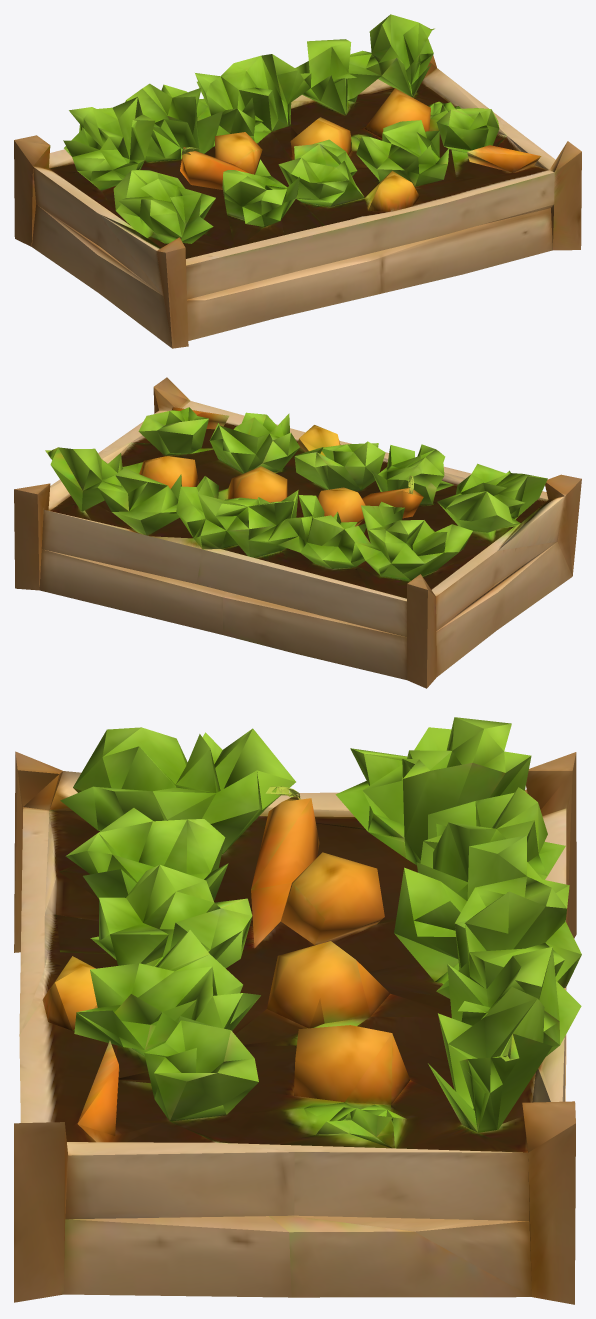
File: vegetablePlanter.glb
The picture shows the model from 3 angles, top to bottom: view 1: azimuth 30°, elevation 25°; view 2: azimuth 150°, elevation 25°; view 3: azimuth 270°, elevation 25°; orthographic projection. The views are drawn at different scales.
Parts seen in each view (by area): view 1: model; view 2: model; view 3: model.
Part boxes in pixels (bbox=[...]): model: bbox=[14, 14, 581, 348]; model: bbox=[14, 377, 581, 688]; model: bbox=[14, 717, 581, 1304].
Size of the model in its own units: 1.89 by 0.627 by 1.22.
Materials: 1 (1 with a texture image).
